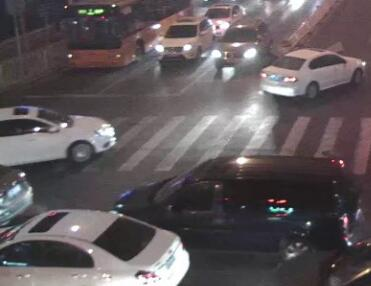bus: (55, 0, 199, 75)
car: (106, 152, 362, 264), (0, 204, 194, 286), (1, 100, 120, 168), (255, 46, 367, 96), (212, 21, 275, 67), (155, 19, 215, 66), (204, 3, 246, 35)
